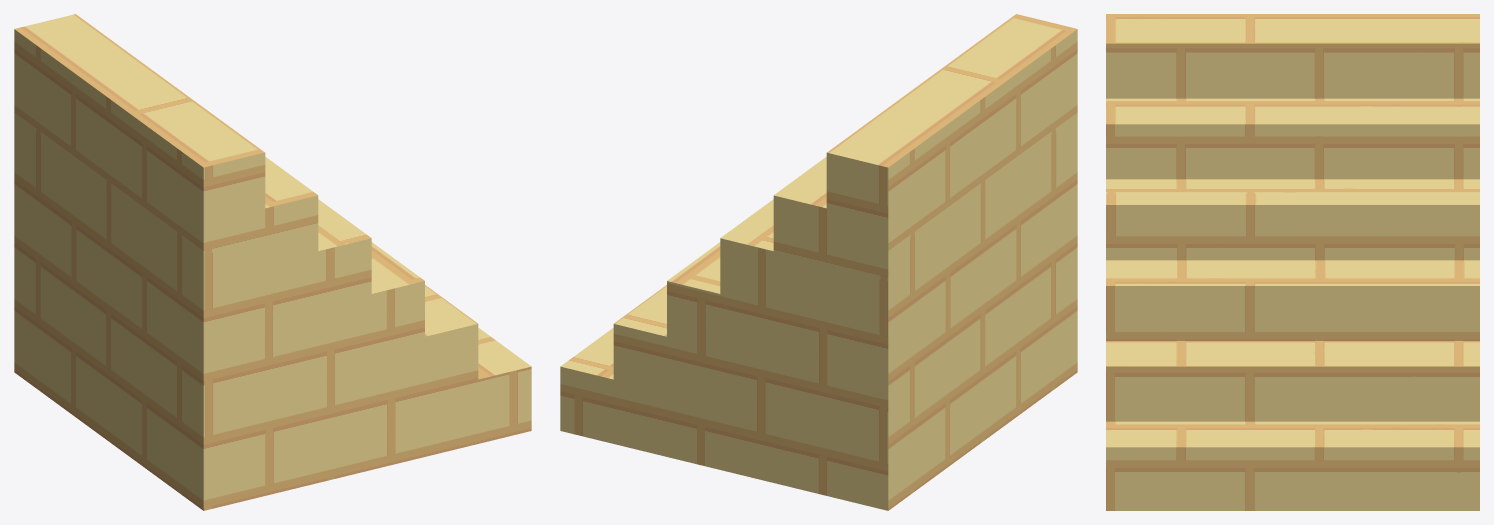
File: stairs.fbx
3 views of the same model, side by side, from view 1: azimuth 30°, elevation 25°; view 2: azimuth 150°, elevation 25°; view 3: azimuth 270°, elevation 25° (orthographic).
Parts seen in each view (by area): view 1: Cube.003; view 2: Cube.003; view 3: Cube.003.
Part boxes in pixels (x1,y1,x2,y2): Cube.003: [14, 14, 531, 510]; Cube.003: [560, 14, 1077, 510]; Cube.003: [1106, 14, 1479, 510].
Bounding box in the file's own units: 400 × 400 × 400.
